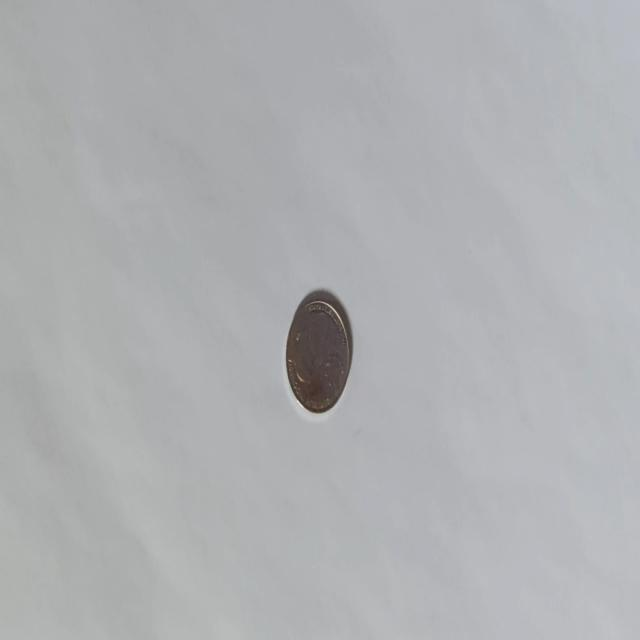seribu rupiah koin: (284, 288, 352, 416)
